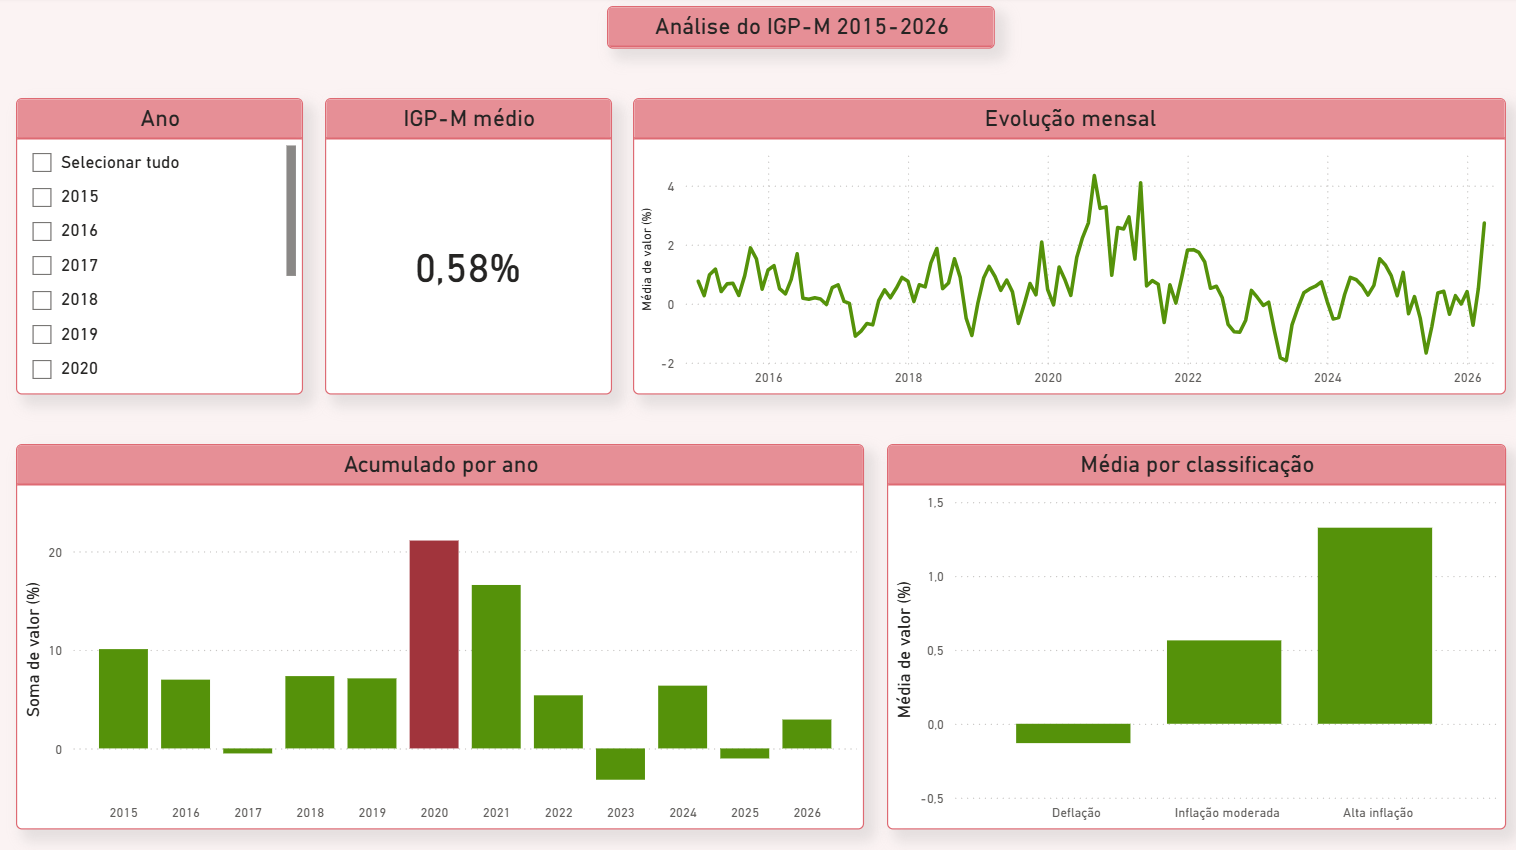

This screenshot's page, from the dashboard's own definition file:
{"tool":"powerbi","page":{"name":"Dashboard","canvas":[1280,720],"ordinal":0},"visuals":[{"type":"cardVisual","title":"IGP-M médio","fields":{"Data":["fato_igpm.Media"]},"box":[274.7,85.4,241.5,250.1],"z":0},{"type":"lineChart","title":"Evolução mensal","fields":{"Y":["Avg(fato_igpm.valor)"],"Category":["fato_igpm.data.Variation.Hierarquia de datas.Ano","fato_igpm.data.Variation.Hierarquia de datas.Mês"]},"box":[534.8,85.4,735.7,250.1],"z":1000},{"type":"clusteredColumnChart","title":"Acumulado por ano","fields":{"Category":["dim_tempo.ano"],"Y":["Sum(fato_igpm.valor)"]},"box":[14.7,376.9,715,325.2],"z":2000},{"type":"clusteredColumnChart","title":"Média por classificação","fields":{"Category":["dim_classificacao.classificacao"],"Y":["Avg(fato_igpm.valor)"]},"box":[748.7,376.9,521.8,325.2],"z":3000},{"type":"textbox","title":"Análise do IGP-M 2015-2026","box":[512.3,7.8,326.9,36.2],"z":4000},{"type":"slicer","title":"Ano","fields":{"Values":["fato_igpm.data.Variation.Hierarquia de datas.Ano"]},"box":[14.7,85.4,241.5,250.1],"z":5000}]}

Visuals, with their boxes in screenshot pixels (x1, y1, x2, y2), scaled from the page's 1280x720 canvas onto the 1516x850 screenshot:
"IGP-M médio" cardVisual: [325,101,611,396]
"Evolução mensal" lineChart: [633,101,1505,396]
"Acumulado por ano" clusteredColumnChart: [17,445,864,829]
"Média por classificação" clusteredColumnChart: [887,445,1505,829]
"Análise do IGP-M 2015-2026" textbox: [607,9,994,52]
"Ano" slicer: [17,101,303,396]
